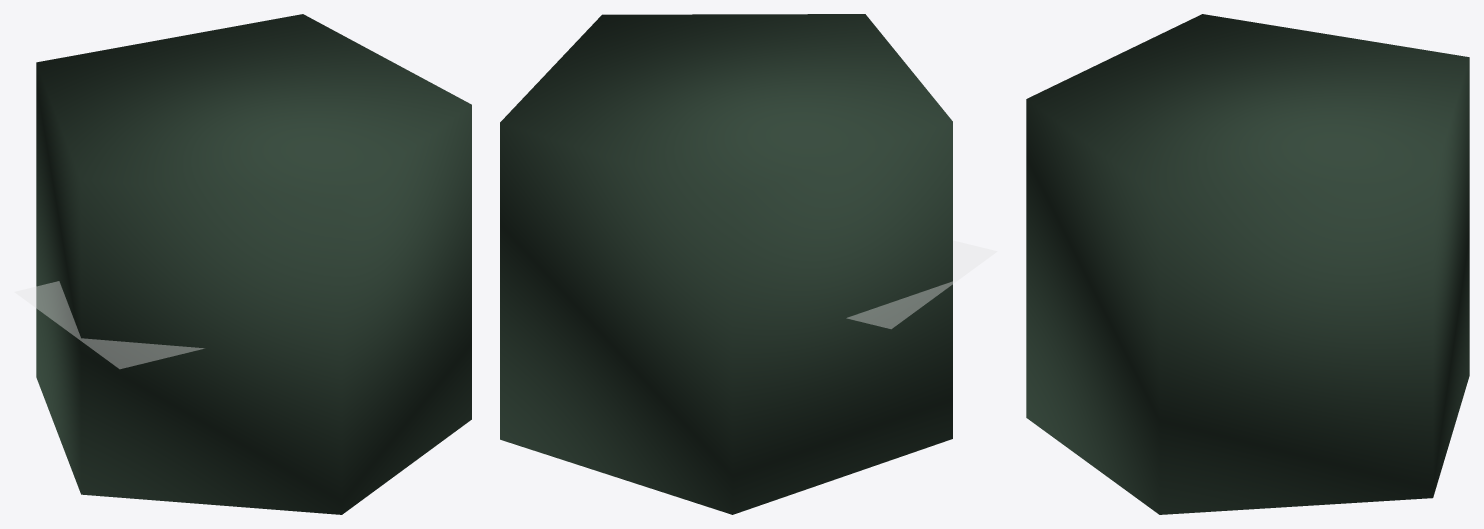
File: Map3.dae
3 renders of one model, left to right at view 1: azimuth 30°, elevation 25°; view 2: azimuth 150°, elevation 25°; view 3: azimuth 270°, elevation 25°, orthographic.
Parts seen in each view (by area): view 1: World-firstForest-gnd_000, trigger-fallCatch; view 2: World-firstForest-gnd_000, trigger-fallCatch; view 3: World-firstForest-gnd_000.
Part boxes in pixels (x1,y1,x2,y2): World-firstForest-gnd_000: (36,14,471,514); trigger-fallCatch: (15,281,203,368); World-firstForest-gnd_000: (500,14,952,514); trigger-fallCatch: (847,240,996,328); World-firstForest-gnd_000: (1026,14,1469,514).
Size of the model in its own units: 193 by 196 by 156.
13 materials, 10 textured.
